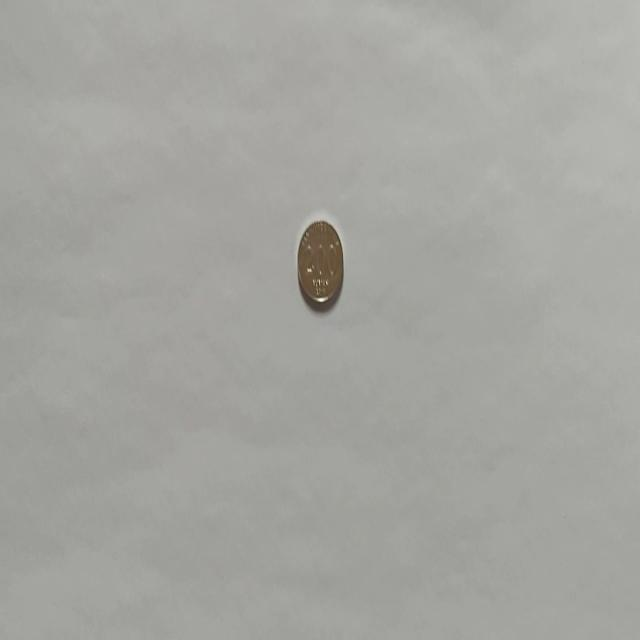dua ratus rupiah: (296, 218, 344, 308)
